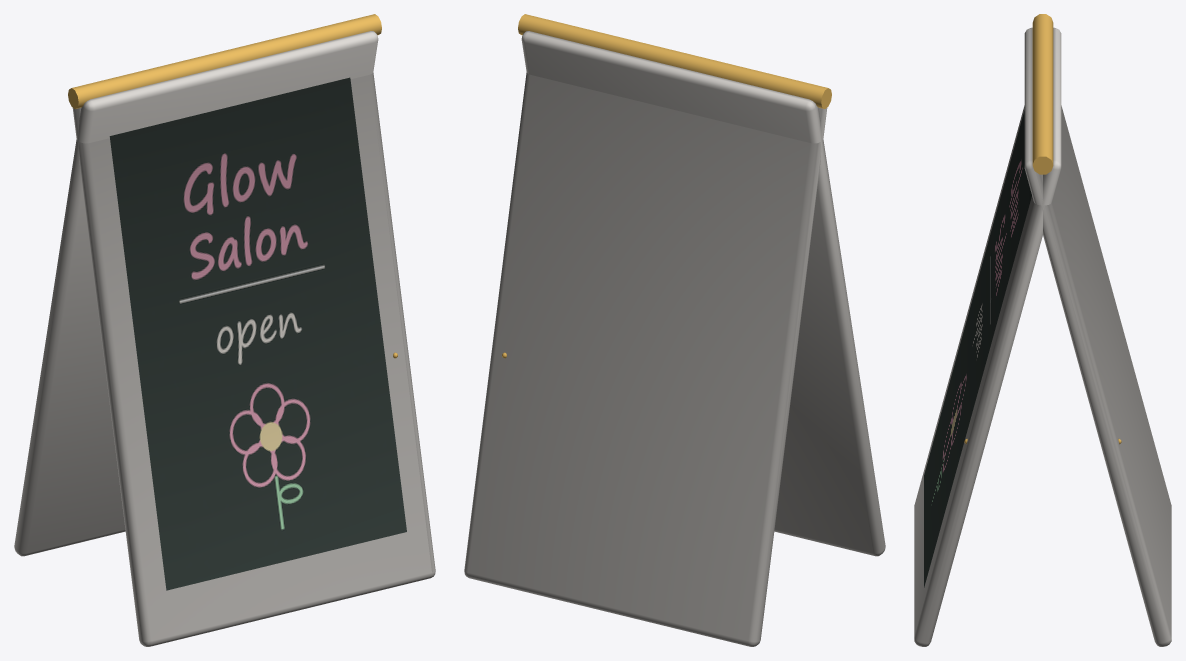
File: a-frame-sign-white.glb
3 renders of one model, left to right at view 1: azimuth 30°, elevation 25°; view 2: azimuth 150°, elevation 25°; view 3: azimuth 270°, elevation 25°, orthographic. The views are drawn at different scales.
Parts seen in each view (by area): view 1: a-frame-sign-white; view 2: a-frame-sign-white; view 3: a-frame-sign-white.
Part boxes in pixels (x1,y1,x2,y2): a-frame-sign-white: (14,14,435,646); a-frame-sign-white: (464,14,885,646); a-frame-sign-white: (914,14,1171,646).
Size of the model in its own units: 0.58 by 0.9396 by 0.4429.
Materials: 3 (1 with a texture image).
